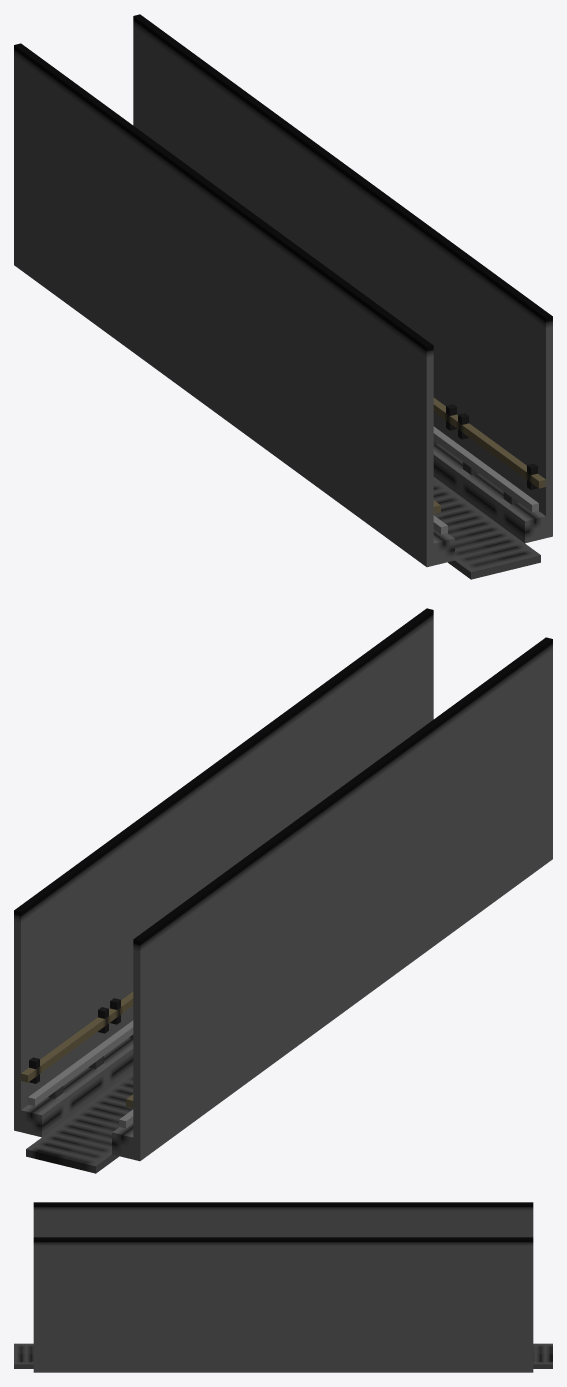
The model's file is _LevelBridge.fbx.
The picture shows the model from 3 angles, top to bottom: view 1: azimuth 30°, elevation 25°; view 2: azimuth 150°, elevation 25°; view 3: azimuth 270°, elevation 25°; orthographic projection. The views are drawn at different scales.
Visible parts, largest first — view 1: Union_194; view 2: Union_194; view 3: Union_194.
Part boxes in pixels (box(x1,y1,x2,y2)): Union_194: box(14, 14, 552, 579); Union_194: box(14, 608, 552, 1173); Union_194: box(14, 1202, 552, 1372).
Size of the model in its own units: 18 by 31 by 110.
